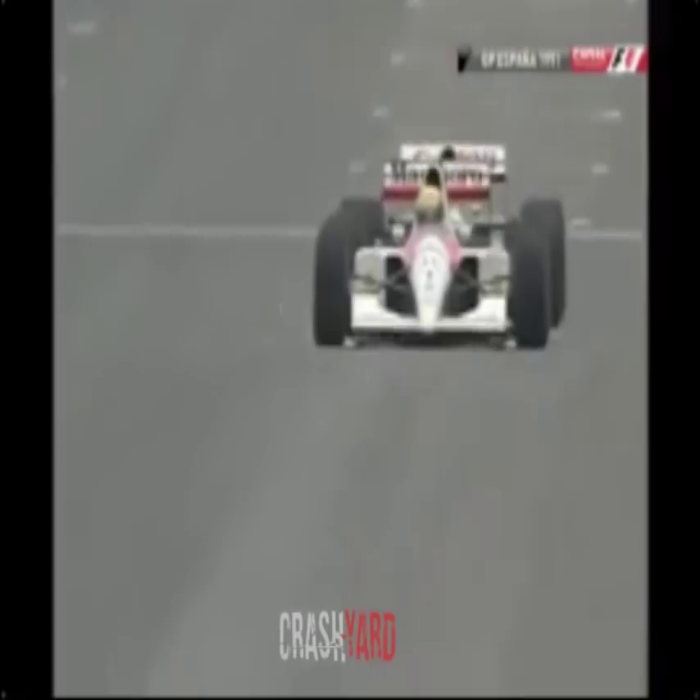f1_car: (305, 127, 580, 361)
